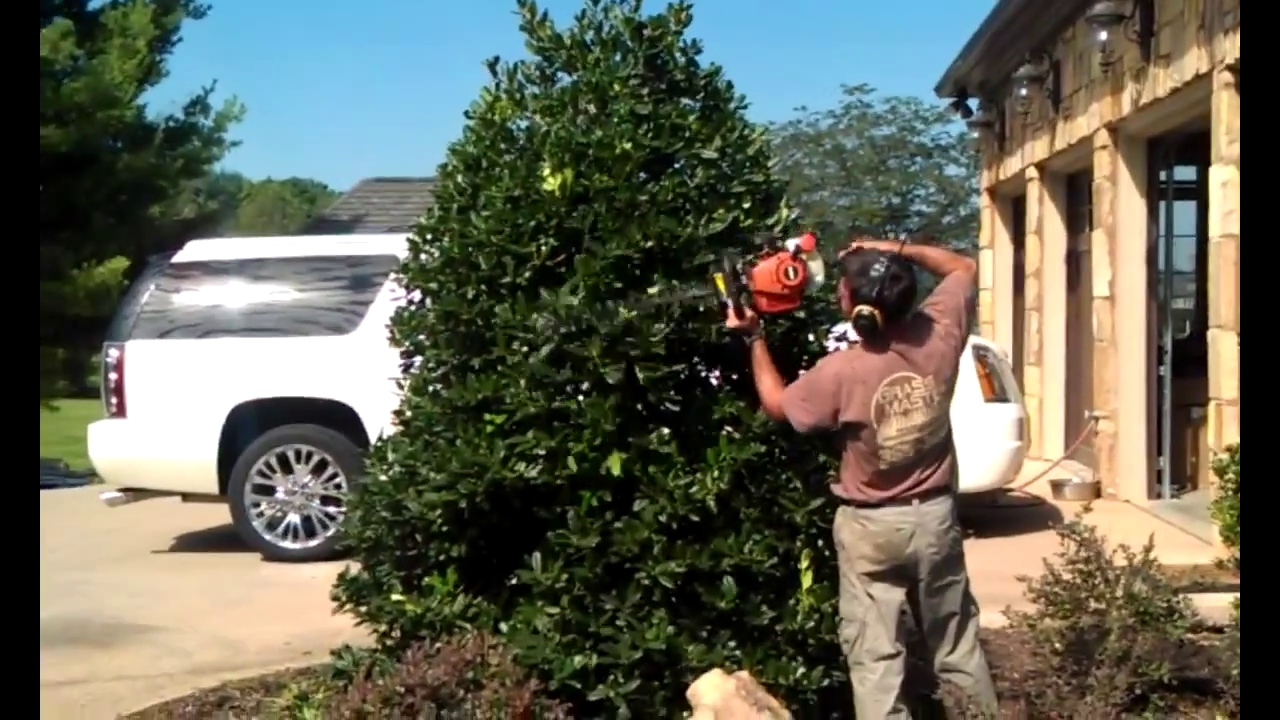person: (748, 238, 1000, 718)
